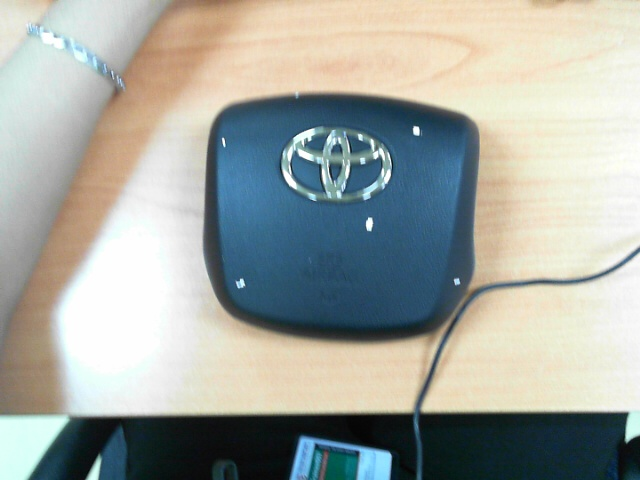Airbag: (365, 217, 374, 232), (235, 278, 247, 289), (412, 125, 421, 137), (221, 136, 227, 148), (453, 278, 461, 286), (295, 91, 300, 100)
